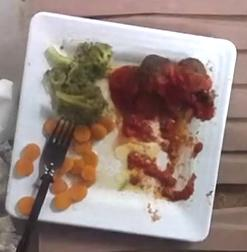broccoli: (43, 41, 113, 124)
carrots: (51, 116, 113, 208), (15, 143, 39, 174)
unknown: (109, 55, 215, 151)
